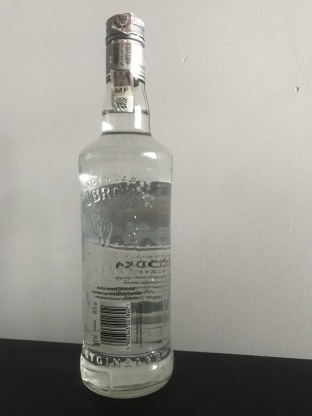nakretka: (103, 10, 147, 85)
